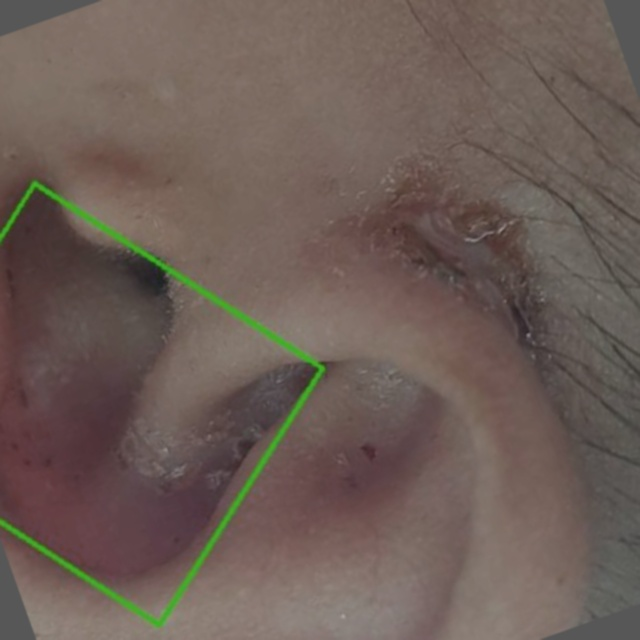Eczema: (0, 127, 373, 623)
